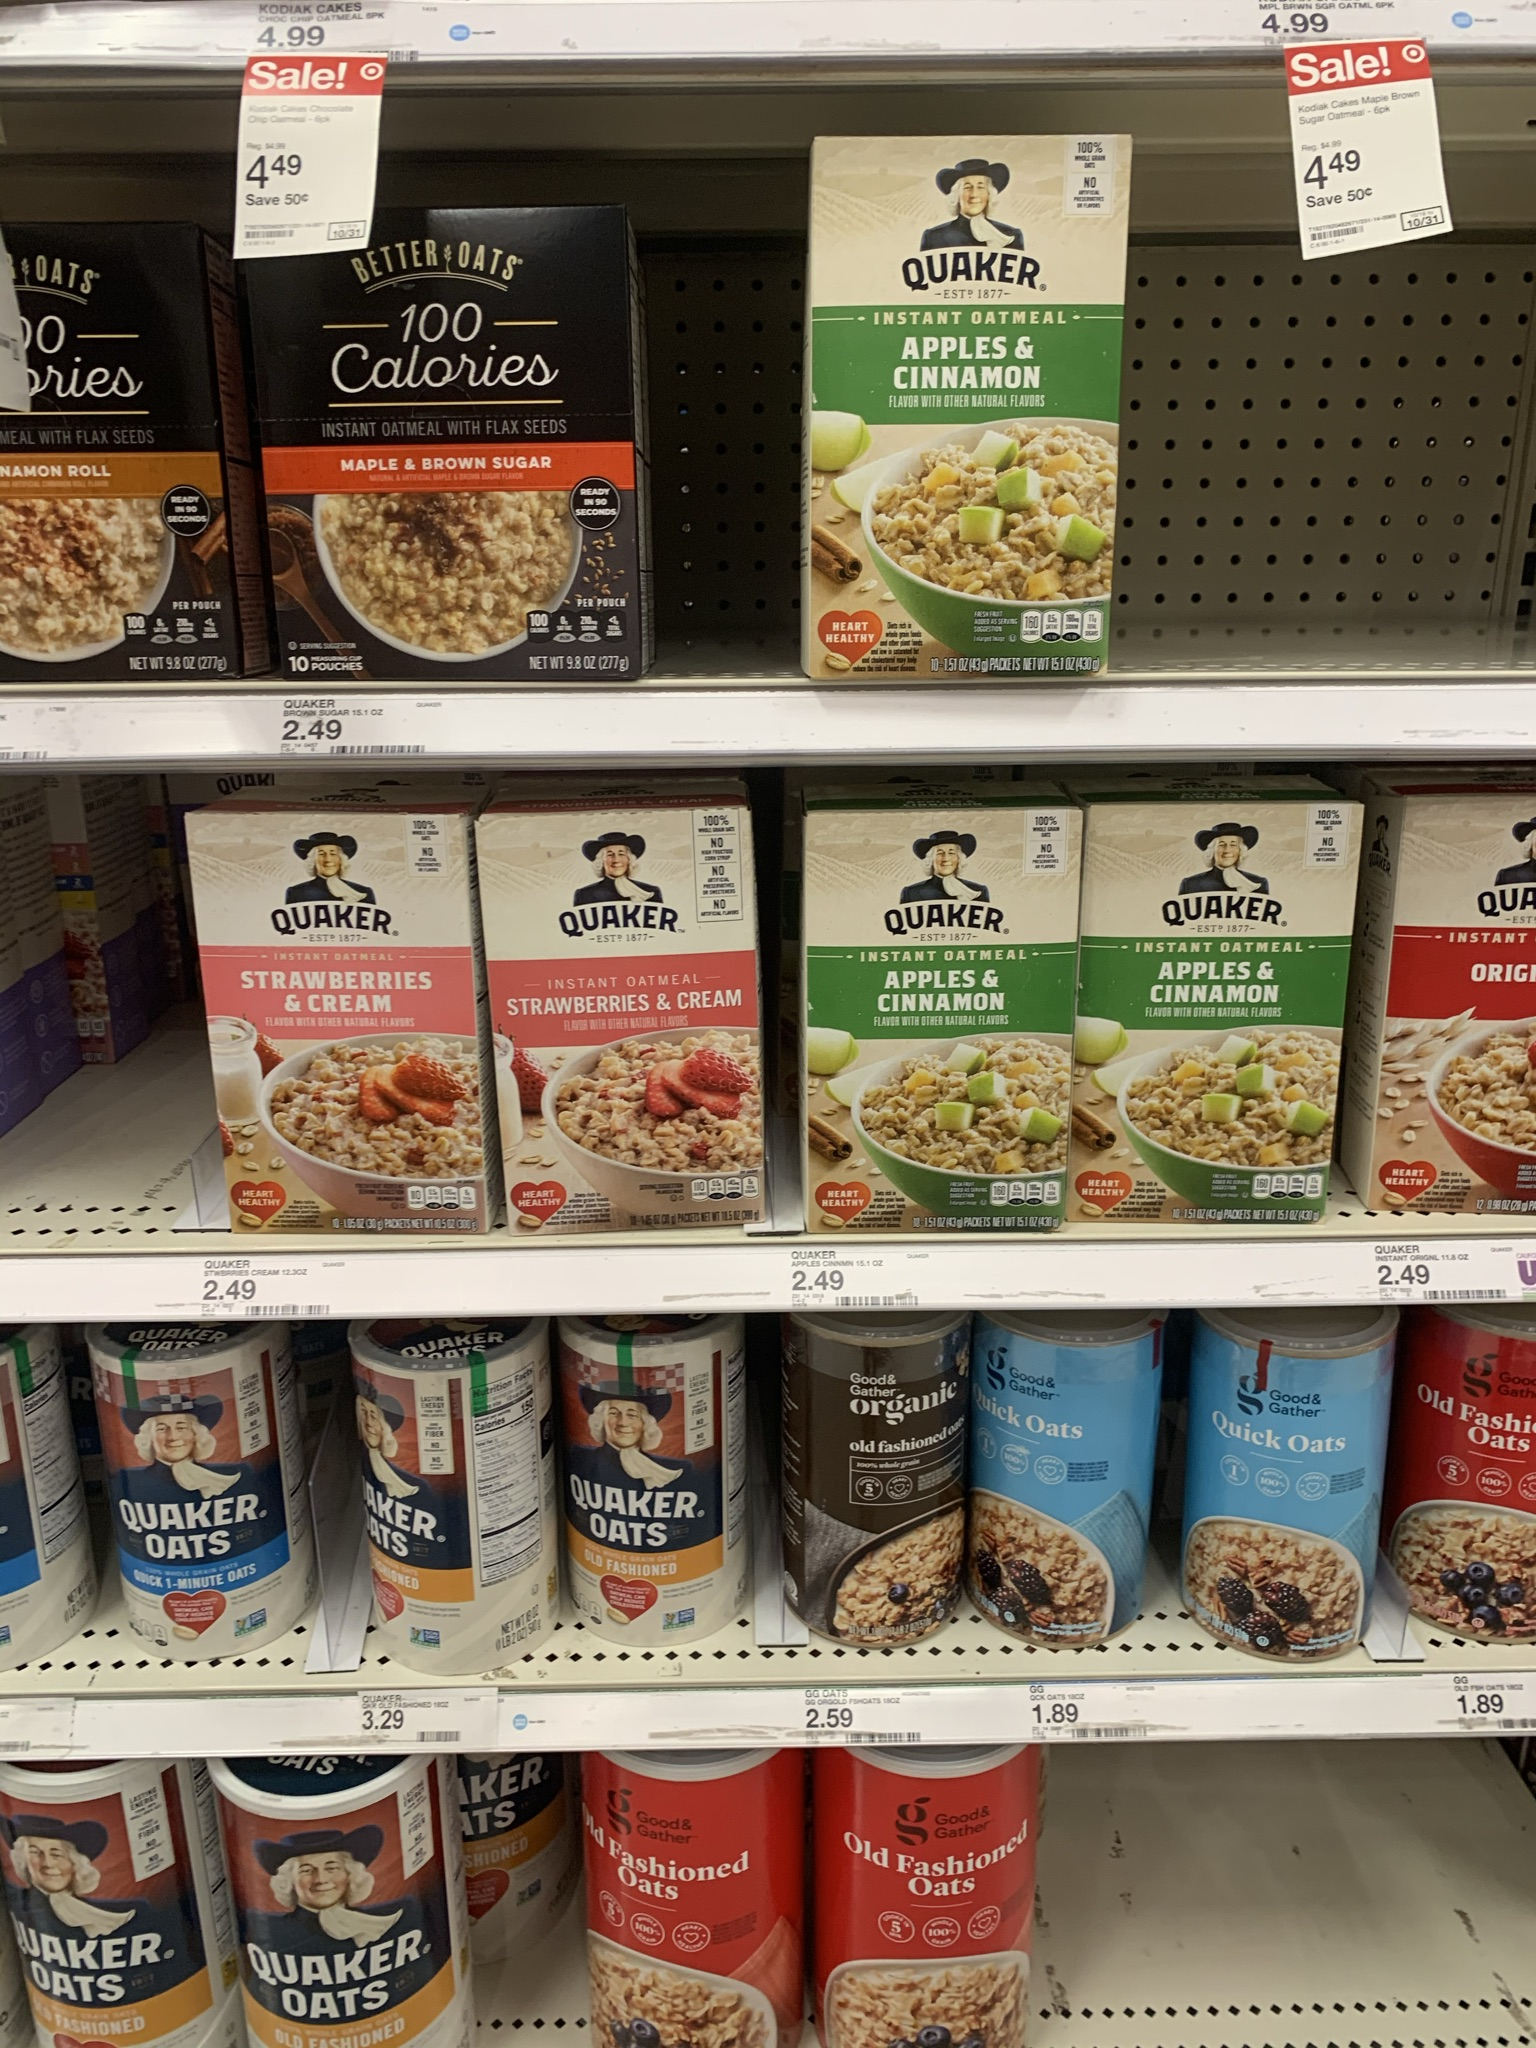box: (807, 148, 1117, 674), (282, 255, 629, 674), (497, 822, 753, 1230), (815, 808, 1057, 1230), (1097, 813, 1323, 1221), (2, 242, 203, 693), (211, 830, 453, 1206), (1396, 830, 1536, 1208)
can: (844, 1767, 1034, 2045), (240, 1804, 440, 2048), (568, 1342, 744, 1617), (102, 1371, 302, 1608), (1217, 1351, 1379, 1640), (600, 1784, 771, 2048), (21, 1787, 190, 2048), (792, 1340, 950, 1619), (369, 1372, 537, 1632), (992, 1347, 1144, 1621), (1425, 1332, 1536, 1637)
